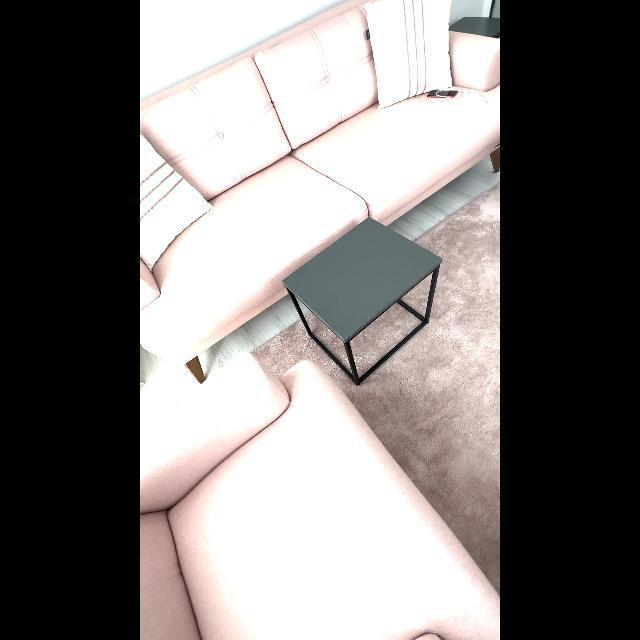coffee table: (278, 209, 448, 389)
